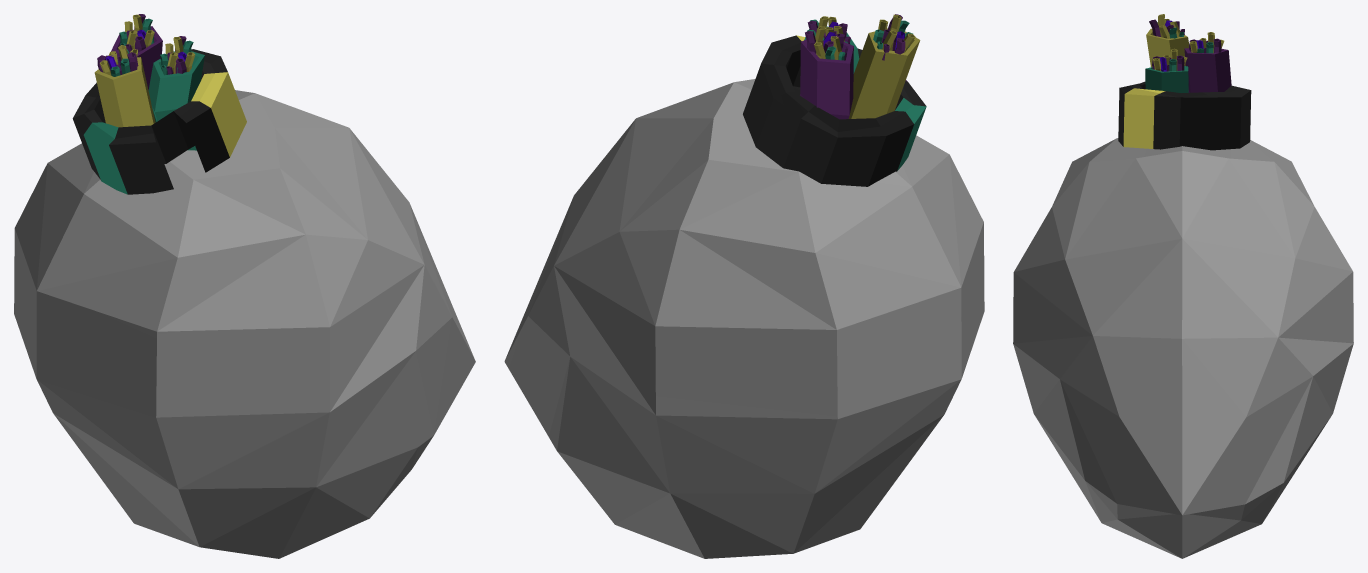
The model's file is barroboy casco blender.FBX.
3 renders of one model, left to right at view 1: azimuth 30°, elevation 25°; view 2: azimuth 150°, elevation 25°; view 3: azimuth 270°, elevation 25°, orthographic. The views are drawn at different scales.
Parts seen in each view (by area): view 1: casco soldados; view 2: casco soldados; view 3: casco soldados.
Boxes of the visible parts, x1,y1,x2,y2 form: casco soldados: [14, 14, 475, 558]; casco soldados: [504, 14, 984, 558]; casco soldados: [1013, 14, 1353, 558].
Size of the model in its own units: 385 by 428 by 305.
